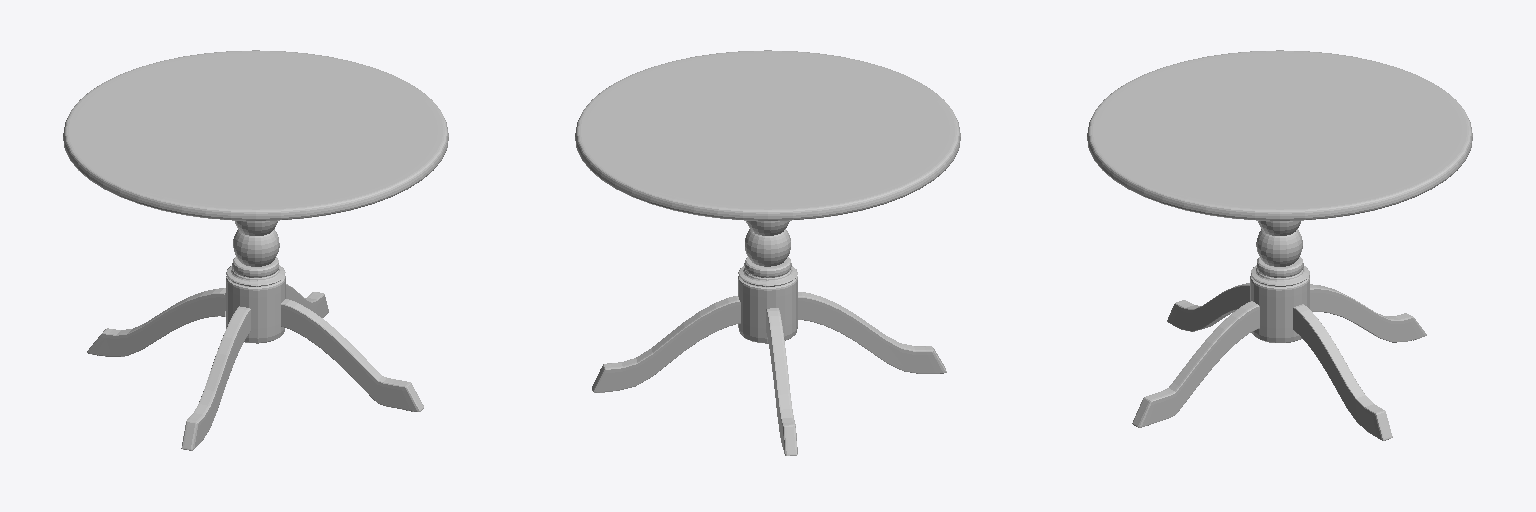
The model's file is round_wooden_table_01_1k.obj.
3 views of the same model, side by side, from view 1: azimuth 30°, elevation 25°; view 2: azimuth 150°, elevation 25°; view 3: azimuth 270°, elevation 25° (orthographic).
Parts seen in each view (by area): view 1: round_wooden_table_01; view 2: round_wooden_table_01; view 3: round_wooden_table_01.
Part boxes in pixels (bbox=[...]): round_wooden_table_01: bbox=[63, 50, 448, 450]; round_wooden_table_01: bbox=[575, 50, 960, 455]; round_wooden_table_01: bbox=[1087, 50, 1472, 440].
Size of the model in its own units: 140 by 101 by 140.